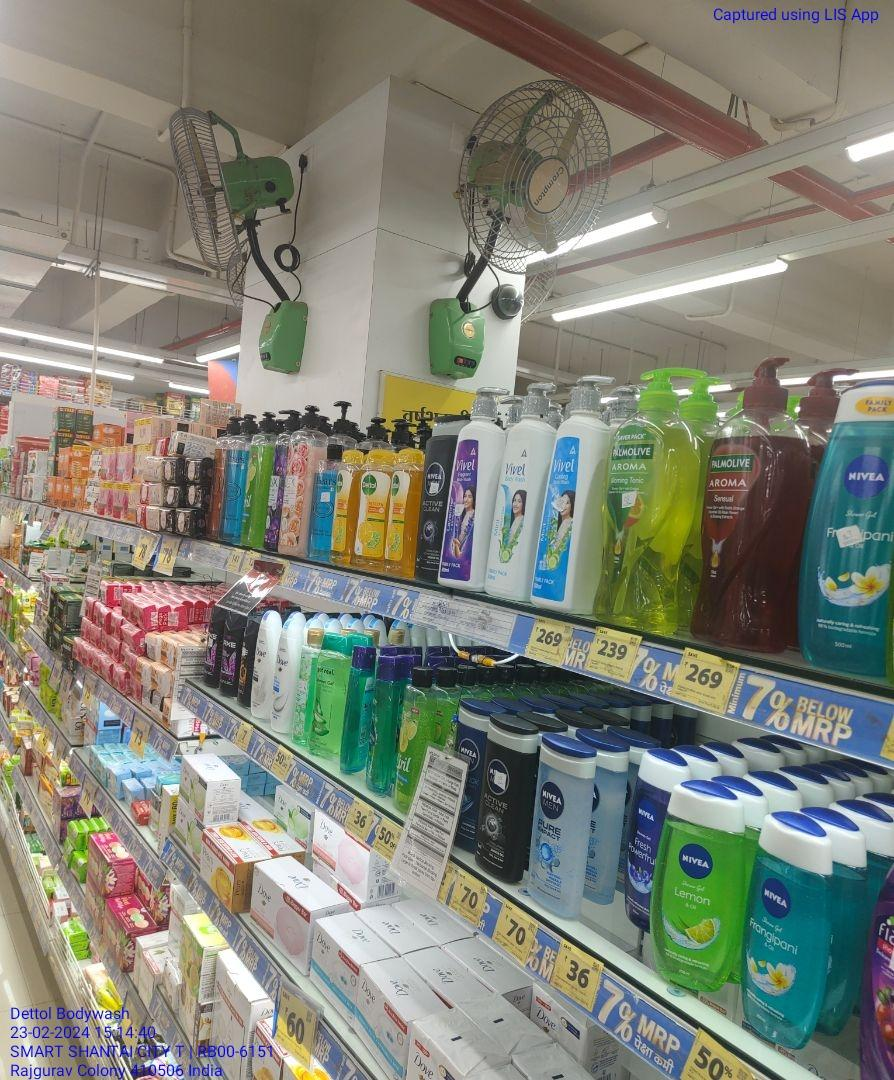Nivea_Shower_Gel_Frangipani_and_Oil_250ML: (793, 370, 894, 669), (736, 816, 819, 1049)
Nivea_Shower_Gel_Lemon_and_Oil_250ML: (649, 784, 730, 995)
